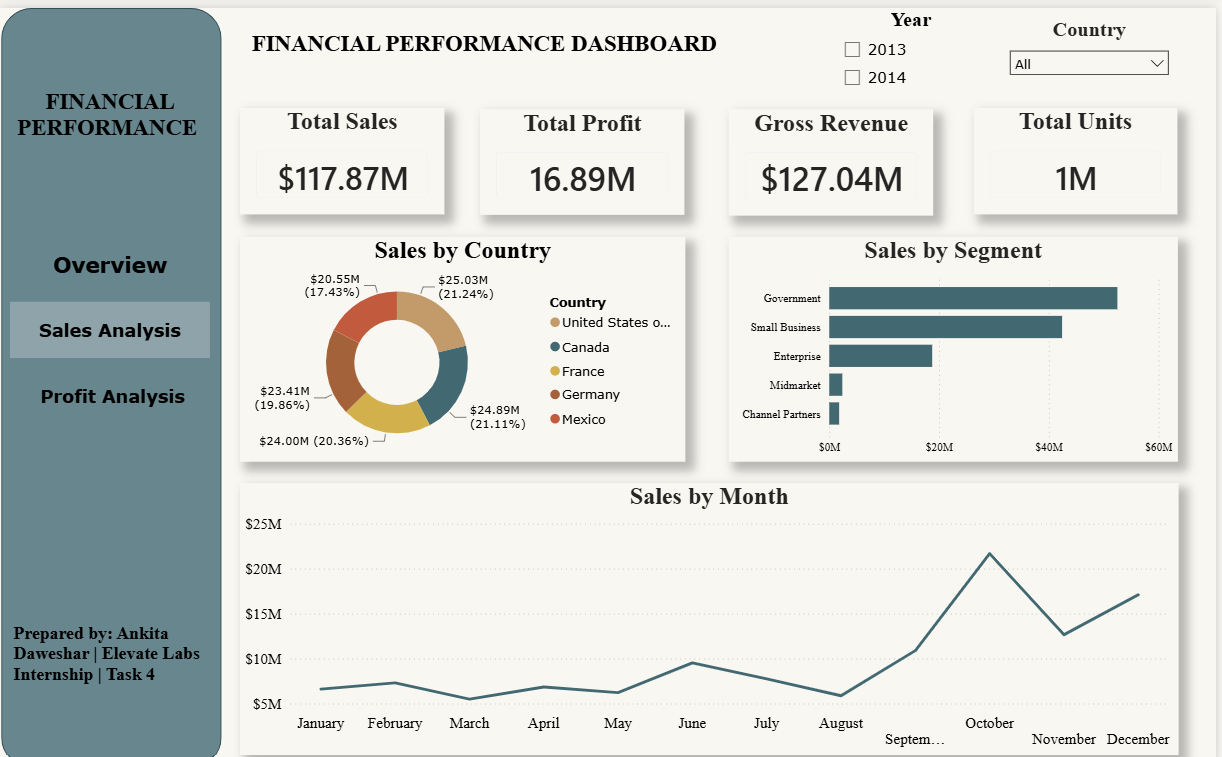

The page's visual inventory and layout, read from the dashboard file:
{"tool":"powerbi","page":{"name":"Sales Analysis","canvas":[1280,800],"ordinal":1},"visuals":[{"type":"shape","box":[1.3,0,231.9,800.3],"z":0},{"type":"cardVisual","title":"Total Sales","fields":{"Data":["Sum(Financials.  Sales )"]},"box":[252,105.9,215.5,112.2],"z":1000},{"type":"cardVisual","title":"Total Profit","fields":{"Data":["Sum(Financials. Profit )"]},"box":[505.4,107.1,215.5,110.9],"z":2000},{"type":"cardVisual","title":"Total Units","fields":{"Data":["Sum(Financials. Units Sold )"]},"box":[1024.6,105.9,214.2,112.2],"z":3000},{"type":"cardVisual","title":"Gross Revenue","fields":{"Data":["Sum(Financials. Gross Sales )"]},"box":[767.5,107.1,215.5,112.2],"z":4000},{"type":"lineChart","title":" Sales  by  Month","fields":{"Category":["Financials. Month Name "],"Y":["Sum(Financials.  Sales )"]},"box":[252,500.3,988,287.3],"z":5000},{"type":"barChart","title":" Sales  by Segment","fields":{"Category":["Financials.Segment"],"Y":["Sum(Financials.  Sales )"]},"box":[767.5,240.7,472.6,236.9],"z":6000},{"type":"donutChart","title":"Sales  by Country","fields":{"Category":["Financials.Country"],"Y":["Sum(Financials.  Sales )"]},"box":[252,240.7,468.8,236.9],"z":7000},{"type":"slicer","title":"Country","fields":{"Values":["Financials.Country"]},"box":[1052.3,10.1,187.8,78.1],"z":8000},{"type":"textbox","box":[8.8,641.5,216.8,92],"z":9000},{"type":"actionButton","box":[10.1,240.7,210.5,59.2],"z":10000},{"type":"actionButton","box":[10.1,308.8,210.5,59.2],"z":11000},{"type":"actionButton","box":[12.6,380.6,210.5,58],"z":12000},{"type":"textbox","box":[252,18.9,514.2,61.8],"z":13000},{"type":"slicer","title":"Year","fields":{"Values":["Financials.Year"]},"box":[875.9,0,165.1,97],"z":14000},{"type":"textbox","box":[0,80.7,231.9,88.2],"z":15000}]}

Visuals, with their boxes in screenshot pixels (x1, y1, x2, y2), scaled from the page's 1280x800 canvas onto the 1222x757 screenshot:
shape: (left=1, top=0, right=223, bottom=756)
"Total Sales" cardVisual: (left=241, top=100, right=446, bottom=206)
"Total Profit" cardVisual: (left=482, top=101, right=688, bottom=206)
"Total Units" cardVisual: (left=978, top=100, right=1183, bottom=206)
"Gross Revenue" cardVisual: (left=733, top=101, right=938, bottom=208)
" Sales  by  Month" lineChart: (left=241, top=473, right=1184, bottom=745)
" Sales  by Segment" barChart: (left=733, top=228, right=1184, bottom=452)
"Sales  by Country" donutChart: (left=241, top=228, right=688, bottom=452)
"Country" slicer: (left=1005, top=10, right=1184, bottom=83)
textbox: (left=8, top=607, right=215, bottom=694)
actionButton: (left=10, top=228, right=211, bottom=284)
actionButton: (left=10, top=292, right=211, bottom=348)
actionButton: (left=12, top=360, right=213, bottom=415)
textbox: (left=241, top=18, right=731, bottom=76)
"Year" slicer: (left=836, top=0, right=994, bottom=92)
textbox: (left=0, top=76, right=221, bottom=160)
